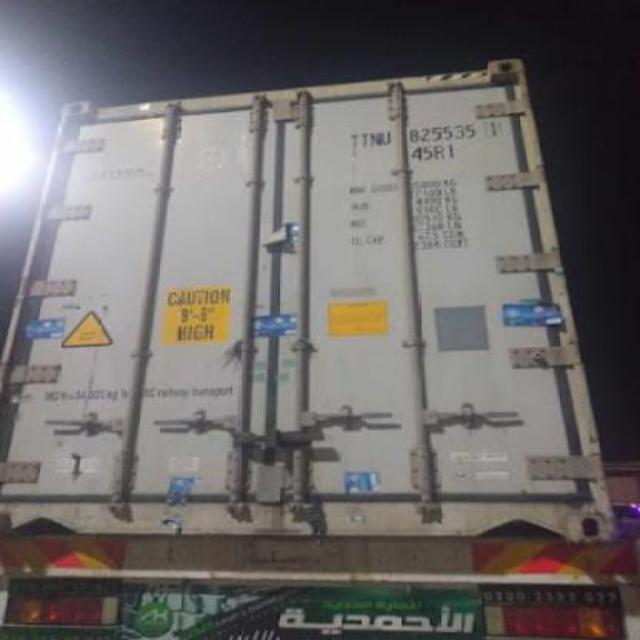1: (482, 116, 504, 140)
2: (418, 122, 430, 142)
3: (452, 117, 466, 143)
5: (430, 120, 442, 142), (464, 120, 476, 140), (440, 122, 452, 140)
8: (406, 126, 419, 142)
N: (368, 128, 380, 148)
T: (344, 128, 360, 148), (358, 128, 370, 148)
U: (378, 124, 394, 148)
